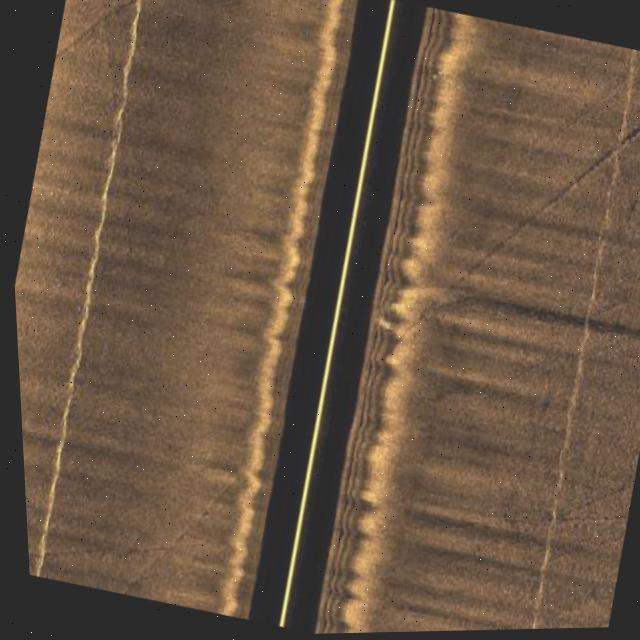mine: (373, 314, 392, 333)
